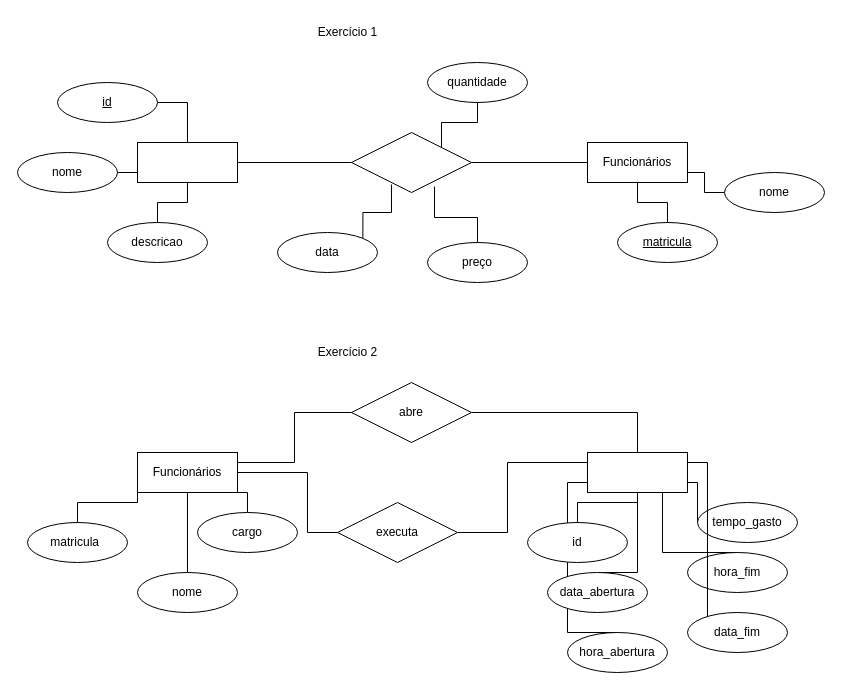
Some shapes in this 842 by 690 pixel diagram are drawn without their labels. Here are the shapes that lost their labels. From the top down, the box of each, then its label:
(136, 142, 238, 182): Produtos
(350, 132, 472, 192): ações
(586, 452, 688, 492): O.S
